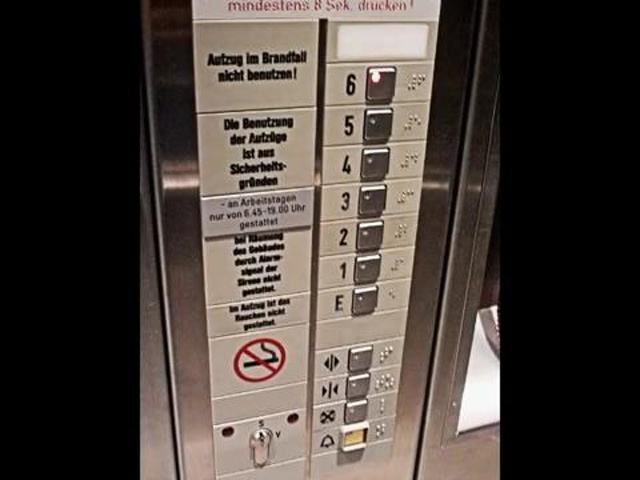1: (333, 246, 396, 288)
2: (334, 214, 397, 256)
3: (335, 177, 397, 221)
4: (335, 141, 397, 185)
5: (335, 101, 396, 147)
6: (335, 62, 401, 108)
E: (333, 280, 396, 322)
alarm: (319, 422, 380, 456)
close: (319, 372, 380, 406)
empty: (336, 23, 427, 60)
fan: (318, 397, 379, 431)
keyhole: (241, 418, 282, 469)
open: (320, 339, 383, 381)
